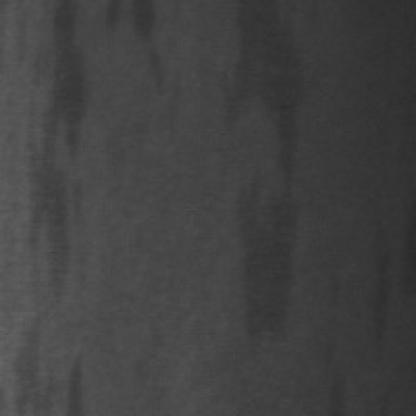inclusion: (216, 2, 296, 345), (25, 4, 79, 293), (358, 216, 399, 362), (122, 0, 171, 94), (56, 349, 90, 414)
